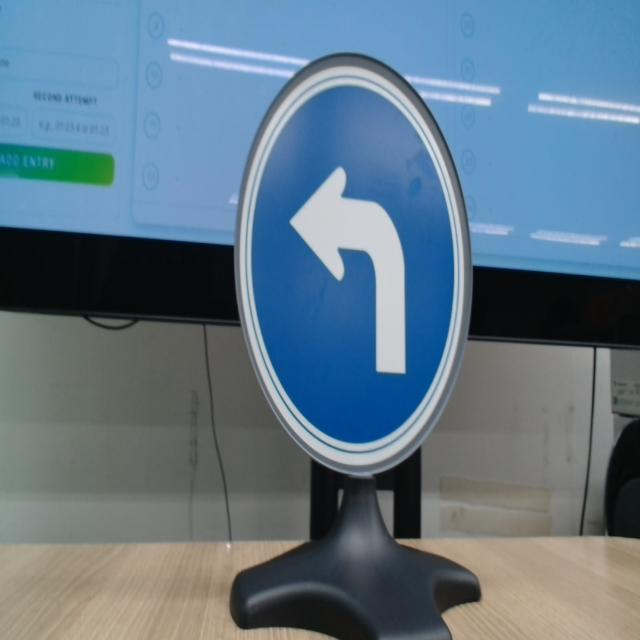left_direction: (225, 16, 491, 464)
